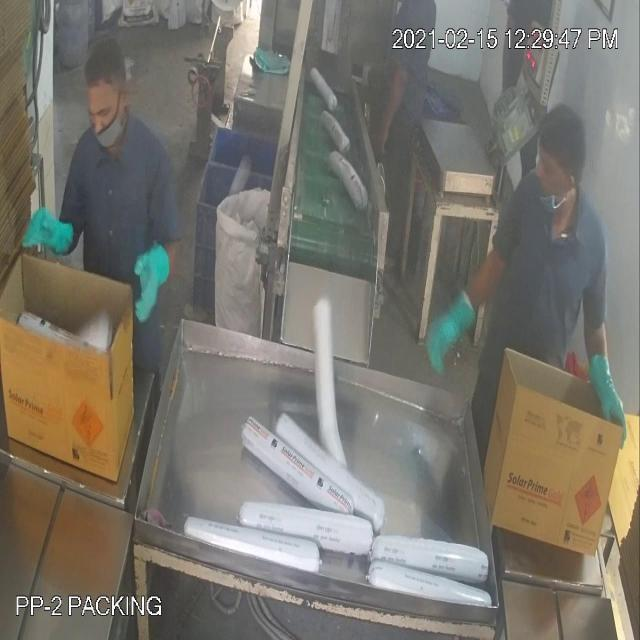No_Gloves: (48, 74, 608, 390)
